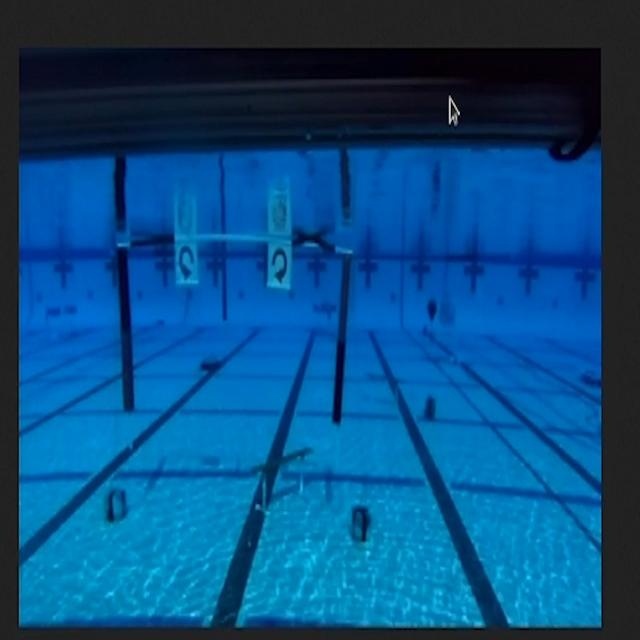Gate: (107, 212, 365, 442)
Path: (237, 441, 325, 523)
